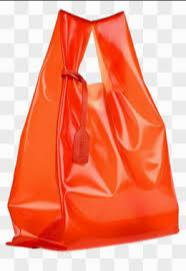Plastic: (13, 1, 185, 251)
